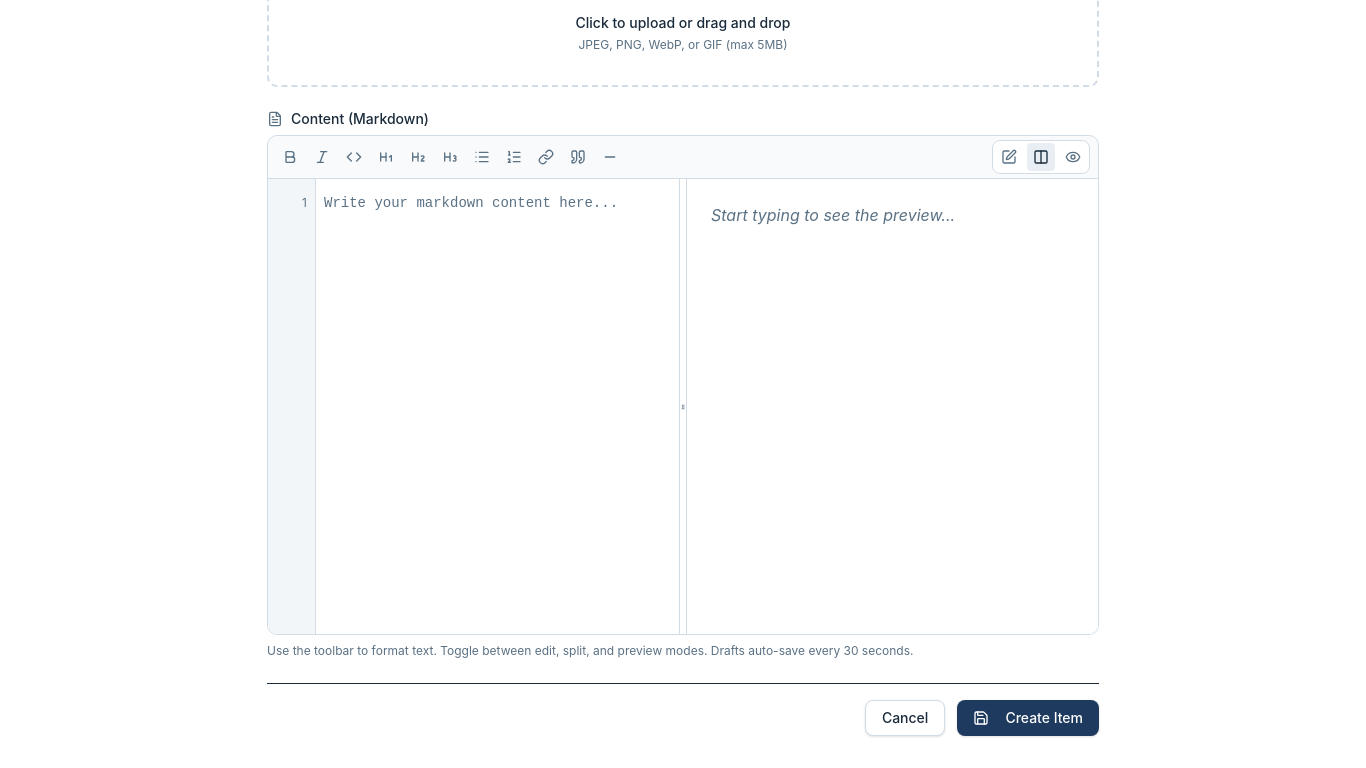
Admin Create Item Flow › shows validation errors for empty required fields
(page scrolled)
Note: Click submit without filling required fields
What coordinates should you click on to do the following:
click the button "Create Item"
I would click on:
 (1028, 718)
Its box is 957,700 -> 1099,736.
(page scrolled)
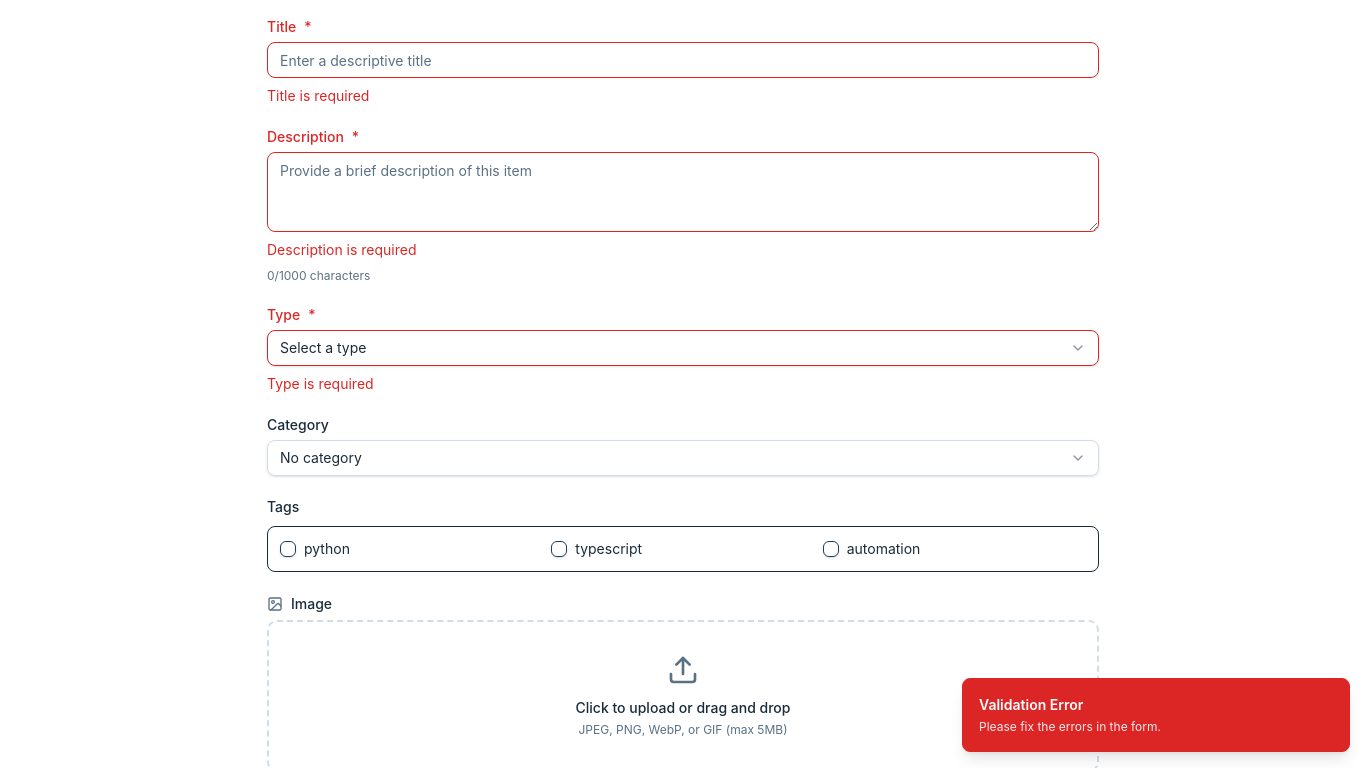
expect the text "Title is required" is shown: met, box 267,87 -> 369,104
expect the text "Description is required" is shown: met, box 267,241 -> 416,258
expect the text "Type is required" is shown: met, box 267,375 -> 374,392
